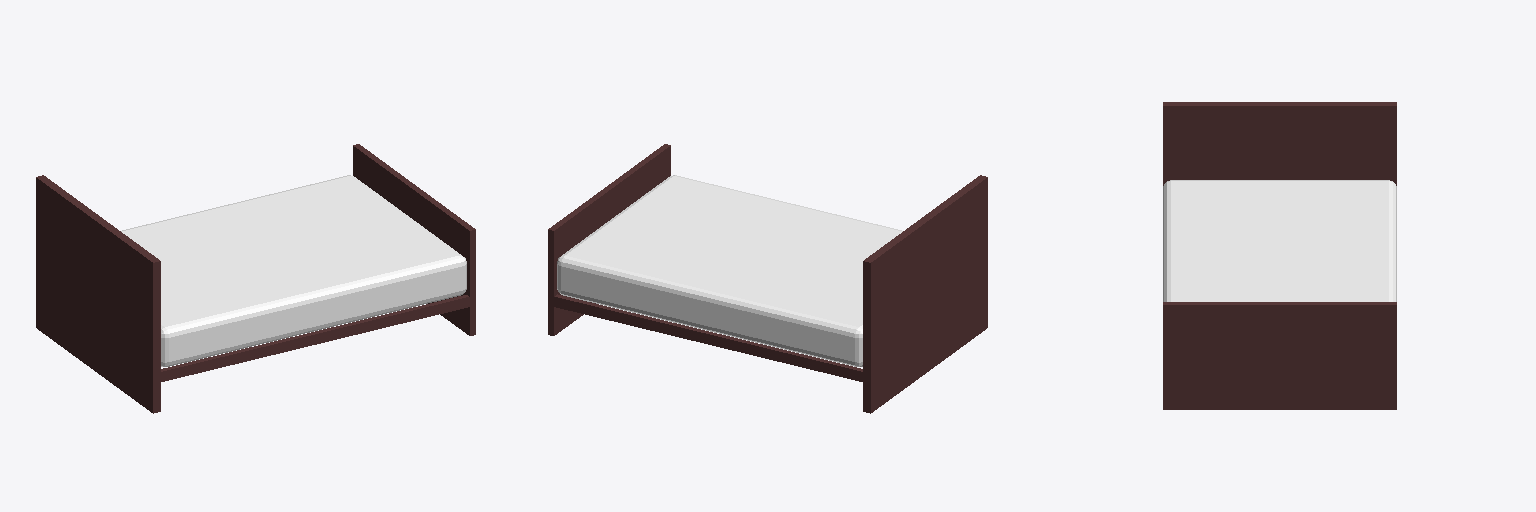
The model's file is bed3.obj.
3 renders of one model, left to right at view 1: azimuth 30°, elevation 25°; view 2: azimuth 150°, elevation 25°; view 3: azimuth 270°, elevation 25°, orthographic.
Parts seen in each view (by area): view 1: bed3; view 2: bed3; view 3: bed3.
Part boxes in pixels (left/top/right/bottom): bed3: left=36, top=144, right=475, bottom=413; bed3: left=548, top=144, right=987, bottom=413; bed3: left=1163, top=102, right=1396, bottom=409.
Size of the model in its own units: 2.86 by 1.27 by 1.8.